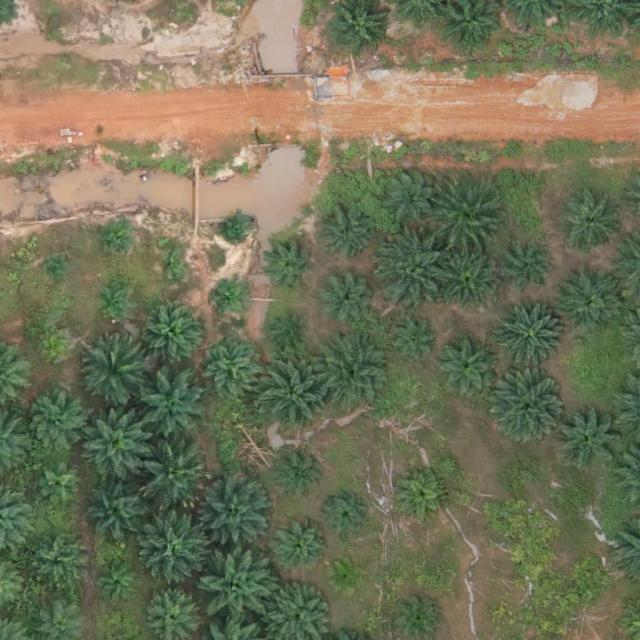Healthy: (490, 374, 561, 445), (319, 342, 390, 413), (134, 371, 205, 442), (80, 416, 151, 487), (497, 302, 567, 373), (433, 185, 503, 256), (260, 356, 330, 427), (199, 554, 270, 624), (198, 475, 268, 546), (141, 444, 211, 515), (142, 517, 213, 587), (77, 334, 148, 404), (377, 235, 447, 305), (557, 272, 620, 335), (437, 335, 500, 398), (84, 483, 147, 546), (27, 532, 90, 595), (557, 406, 619, 469), (437, 247, 499, 310), (378, 164, 440, 227), (144, 304, 207, 366), (560, 195, 622, 257), (29, 392, 91, 454), (319, 208, 374, 263), (319, 270, 374, 325), (204, 335, 259, 390), (394, 471, 449, 526), (503, 241, 557, 296), (386, 314, 440, 369), (263, 238, 317, 293)
Small: (280, 524, 327, 572), (322, 494, 369, 542), (274, 448, 321, 495), (36, 459, 83, 506), (98, 562, 138, 602), (215, 281, 246, 313), (329, 562, 360, 593), (219, 212, 250, 243), (276, 318, 307, 349), (158, 251, 189, 282), (101, 223, 132, 254), (98, 287, 129, 318), (44, 260, 68, 284), (38, 335, 61, 358)
